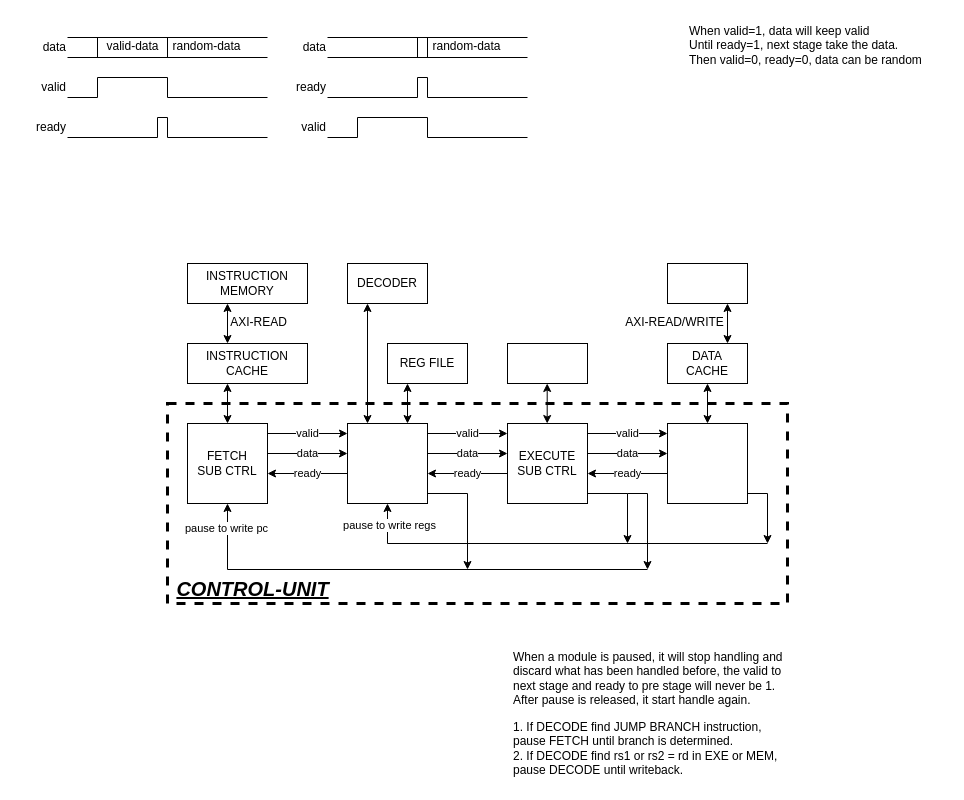
This 964x800 diagram has some shape labels left out. The shapes that lost their labels are listed below. From the top down, each one's centre as x and y in pixels, then its label:
At (707,283): "DATA MEMORY".
At (547,363): "ALU".
At (387,463): "DECODE SUB CTRL".
At (707,463): "MEMORY SUB CTRL".
